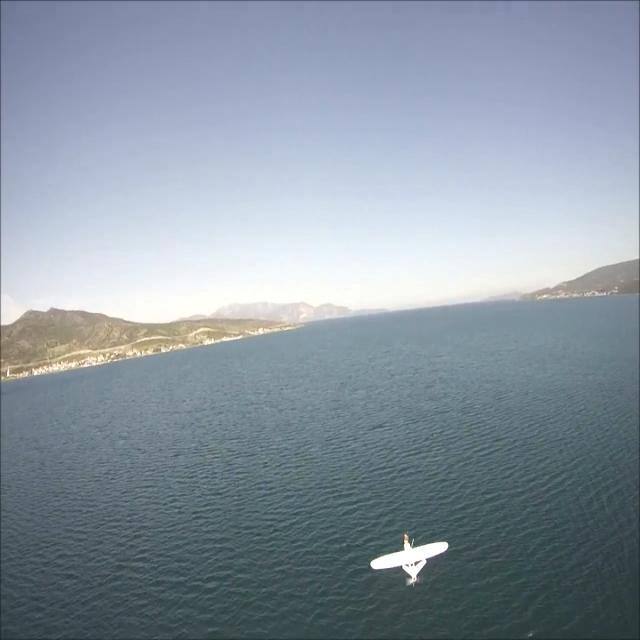iha: (402, 559, 420, 561)
